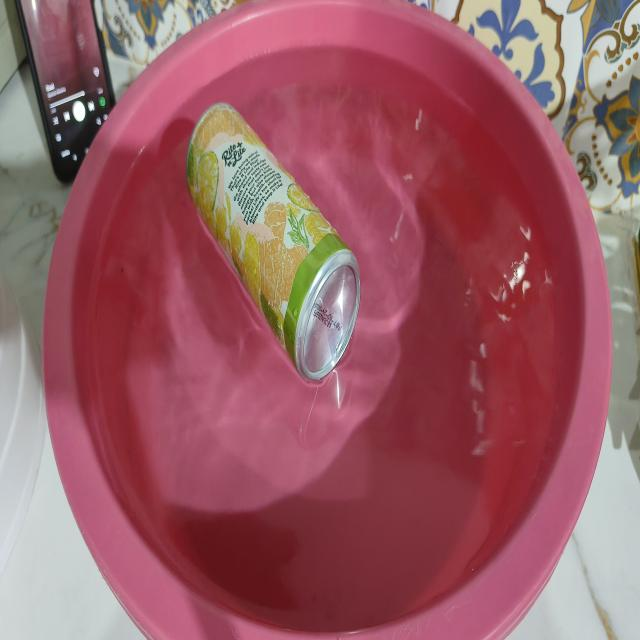Aluminum Can: (187, 103, 360, 380)
